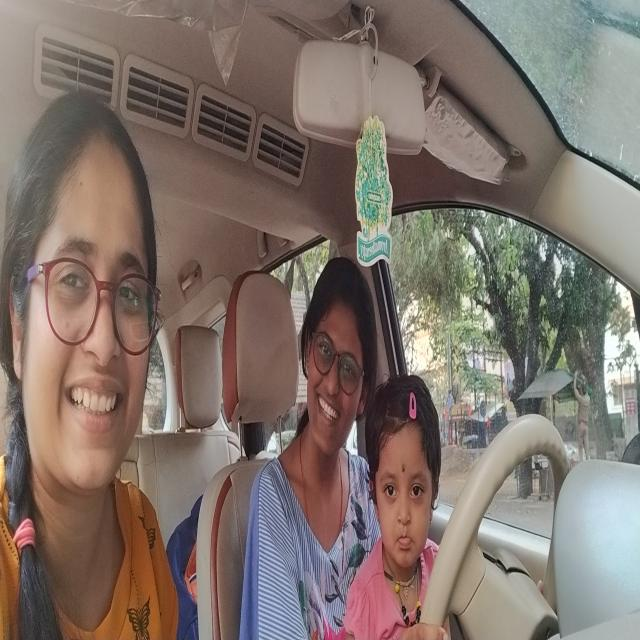child: (367, 375, 441, 583)
person: (0, 85, 170, 509), (296, 248, 376, 460)
